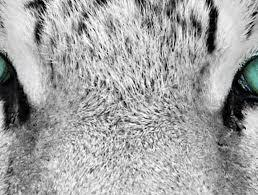Non_Gorille: (6, 3, 258, 190)
